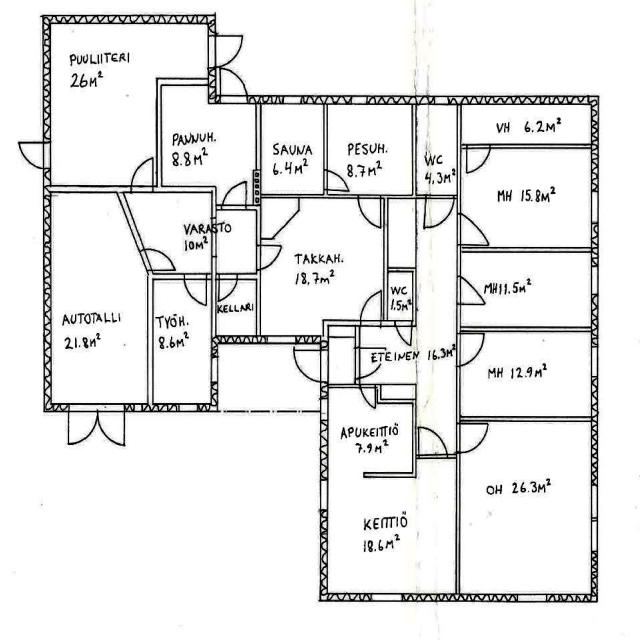door: (96, 403, 125, 444), (293, 350, 328, 383), (68, 403, 96, 444), (220, 65, 247, 104), (418, 422, 446, 459), (208, 36, 242, 66), (456, 213, 488, 244), (457, 334, 488, 365), (138, 240, 169, 271), (426, 194, 453, 229), (355, 348, 386, 378), (456, 423, 486, 452), (21, 142, 52, 168), (222, 178, 246, 210), (457, 277, 485, 304), (467, 144, 490, 175), (255, 244, 282, 270), (131, 161, 153, 192), (184, 274, 206, 304), (360, 295, 381, 326), (358, 194, 380, 223), (394, 319, 412, 345), (219, 274, 237, 300), (324, 170, 345, 190), (360, 384, 375, 404)
